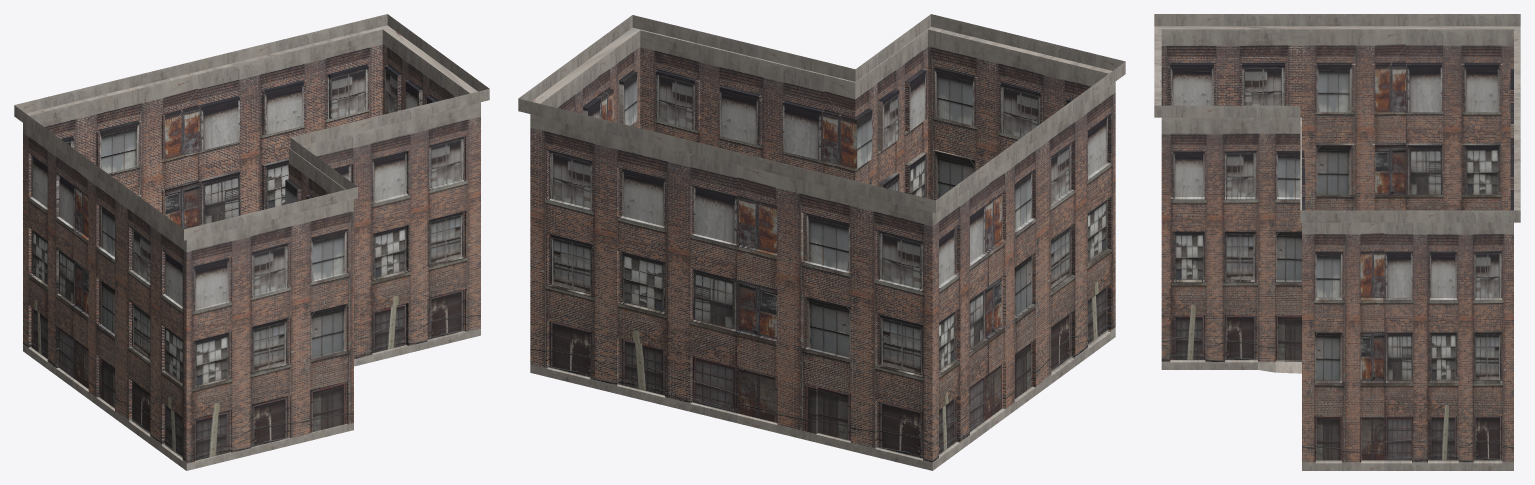
Rendered from BackBuildingBase.obj.
The picture shows the model from 3 angles, left to right: view 1: azimuth 30°, elevation 25°; view 2: azimuth 150°, elevation 25°; view 3: azimuth 270°, elevation 25°; orthographic projection. The views are drawn at different scales.
Visible parts, largest first — view 1: Object_4.001; view 2: Object_4.001; view 3: Object_4.001.
Boxes of the visible parts, x1,y1,x2,y2 form: Object_4.001: (14, 14, 489, 470); Object_4.001: (518, 14, 1125, 470); Object_4.001: (1154, 14, 1520, 470).
Size of the model in its own units: 28.88 by 18.14 by 22.74.
